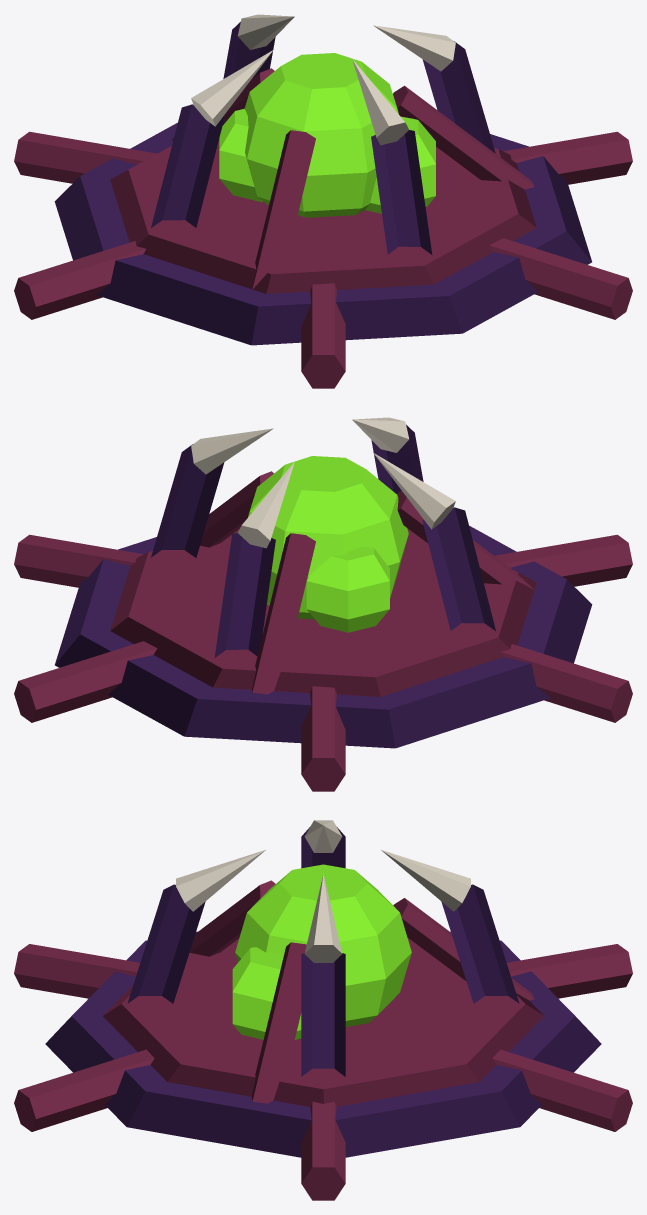
Rendered from krynn_harvester.obj.
The picture shows the model from 3 angles, top to bottom: view 1: azimuth 30°, elevation 25°; view 2: azimuth 150°, elevation 25°; view 3: azimuth 270°, elevation 25°; orthographic projection.
Visible parts, largest first — view 1: ModelMesh; view 2: ModelMesh; view 3: ModelMesh.
Part boxes in pixels (box(x1,y1,x2,y2)): ModelMesh: box(14, 14, 632, 388); ModelMesh: box(14, 417, 632, 791); ModelMesh: box(14, 820, 632, 1200).
Bounding box in the file's own units: 1.1 × 0.3602 × 0.9807.
